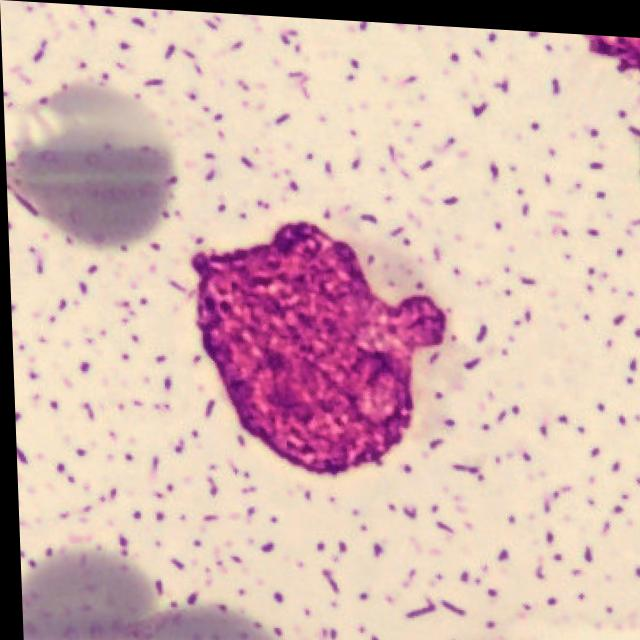Restos celulares: (193, 218, 446, 474)
